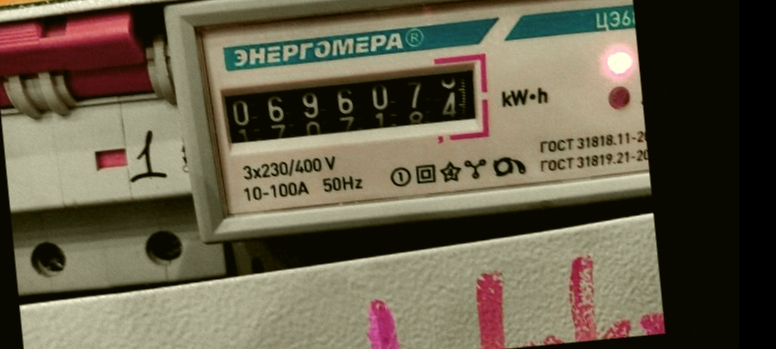0: (228, 95, 250, 127), (368, 78, 390, 110)
4: (436, 88, 458, 118)
6: (261, 90, 286, 122), (333, 84, 355, 114)
7: (403, 76, 422, 108)
9: (298, 88, 319, 119)
screen: (201, 45, 494, 162)
